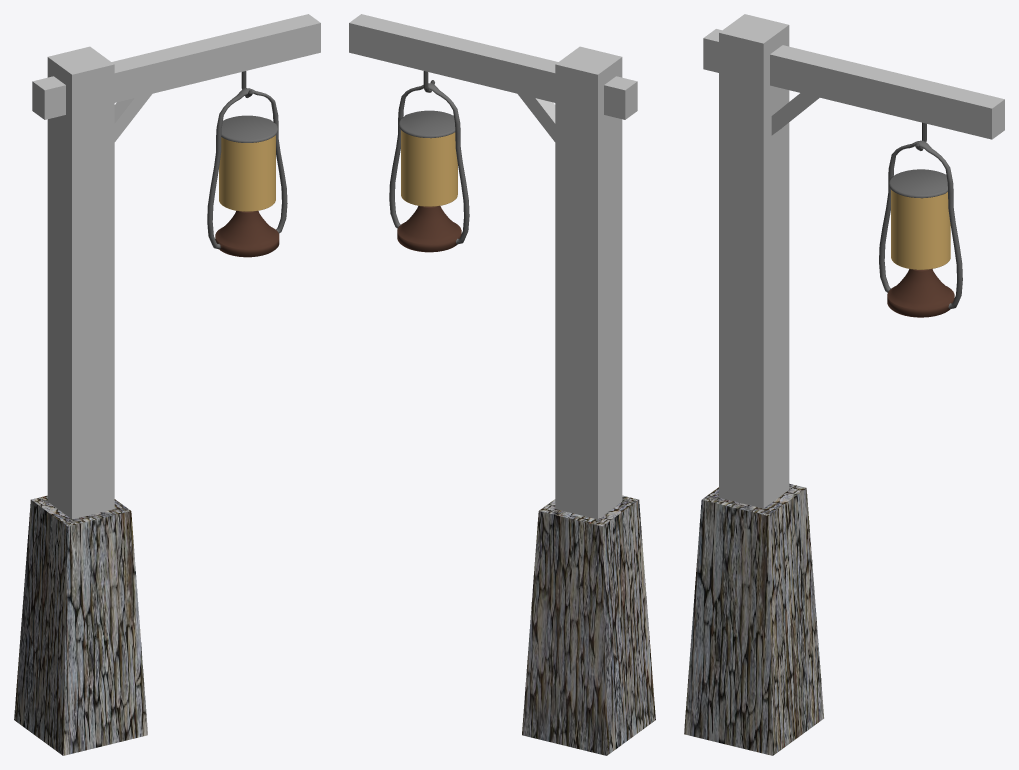
Rendered from wooden_lamp_post.dae.
3 renders of one model, left to right at view 1: azimuth 30°, elevation 25°; view 2: azimuth 150°, elevation 25°; view 3: azimuth 330°, elevation 25°, orthographic. The views are drawn at different scales.
Visible parts, largest first — view 1: Cube, Cube_001, Cylinder; view 2: Cube, Cube_001, Cylinder; view 3: Cube, Cube_001, Cylinder.
Boxes of the visible parts, x1,y1,x2,y2 form: Cube: (32, 14, 320, 519); Cube_001: (14, 495, 147, 755); Cylinder: (207, 88, 287, 257); Cube: (349, 14, 637, 519); Cube_001: (522, 495, 655, 755); Cylinder: (389, 83, 469, 252); Cube: (703, 14, 1004, 508); Cube_001: (684, 483, 823, 755); Cylinder: (879, 140, 962, 317).
Size of the model in its own units: 1.3 by 0.4 by 3.
